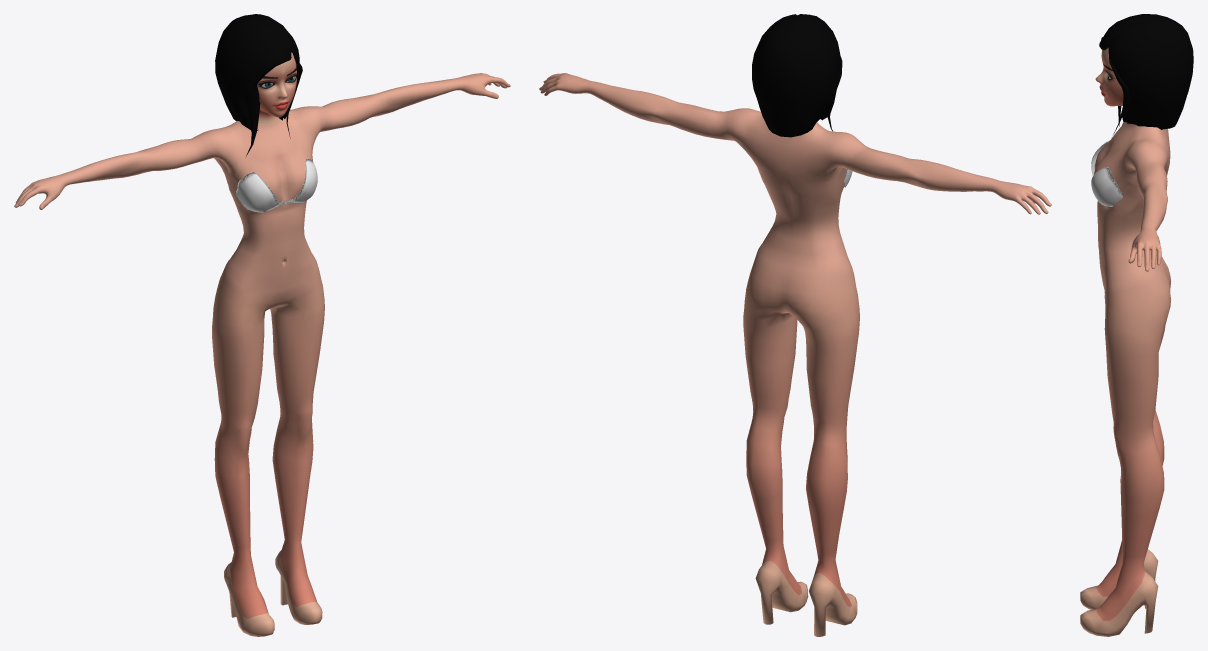
Rendered from Body1.fbx.
3 renders of one model, left to right at view 1: azimuth 30°, elevation 25°; view 2: azimuth 150°, elevation 25°; view 3: azimuth 270°, elevation 25°, orthographic. The views are drawn at different scales.
Visible parts, largest first — view 1: Plane.001, Hair; view 2: Plane.001, Hair; view 3: Plane.001, Hair.
Part boxes in pixels (x1,y1,x2,y2): Plane.001: (14,52,510,636); Hair: (215,14,302,157); Plane.001: (539,73,1051,636); Hair: (752,14,842,137); Plane.001: (1080,47,1171,636); Hair: (1099,14,1193,134).
Size of the model in its own units: 125 by 144 by 24.65.
